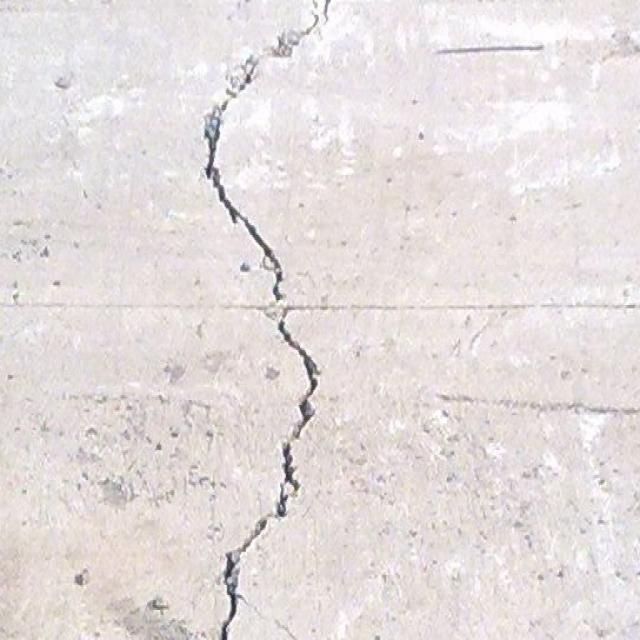Longitudinal: (196, 2, 336, 640)
